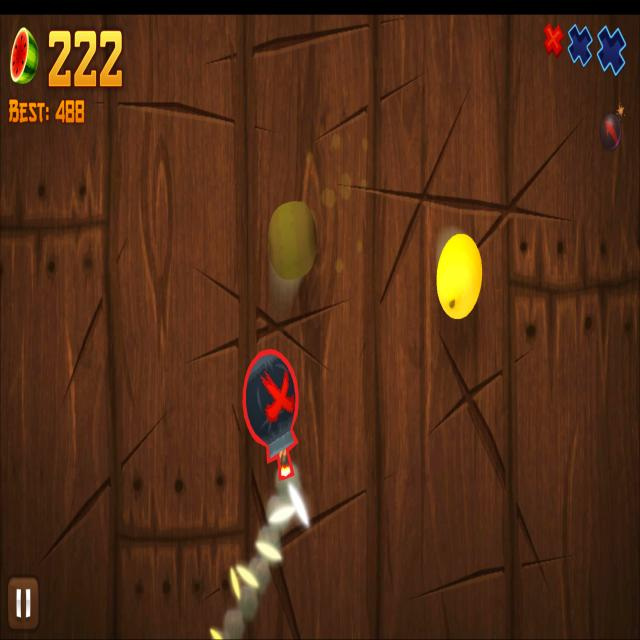bomb: (243, 352, 300, 481)
fruit: (437, 232, 484, 321), (268, 199, 317, 280)
